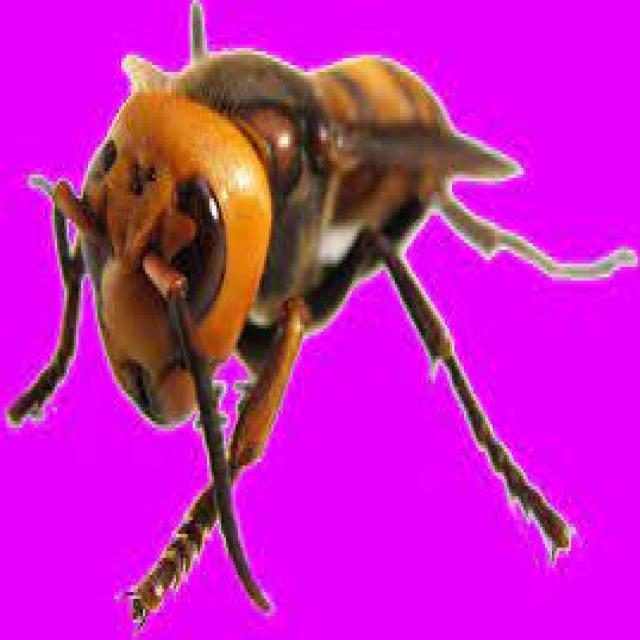Wasp: (11, 0, 632, 613)
